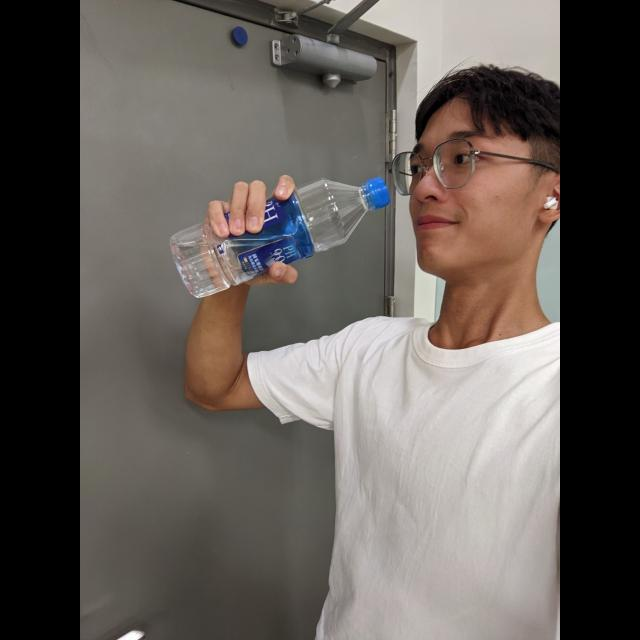trash: (166, 163, 392, 297)
